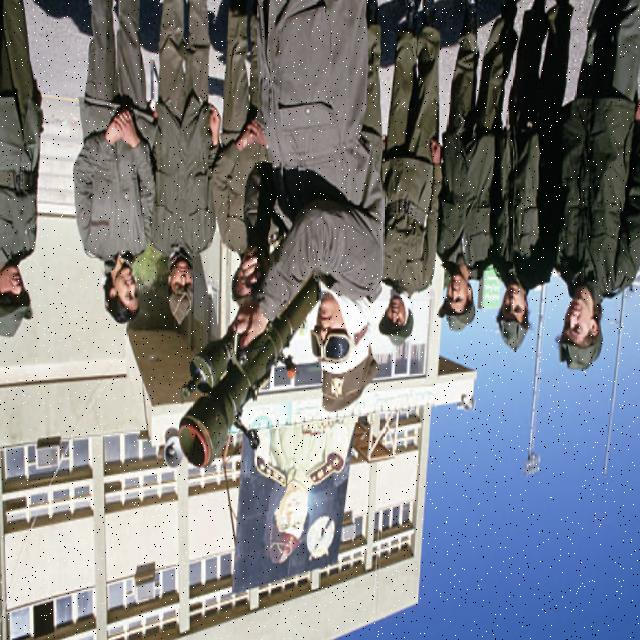bazooka: (174, 260, 323, 477)
